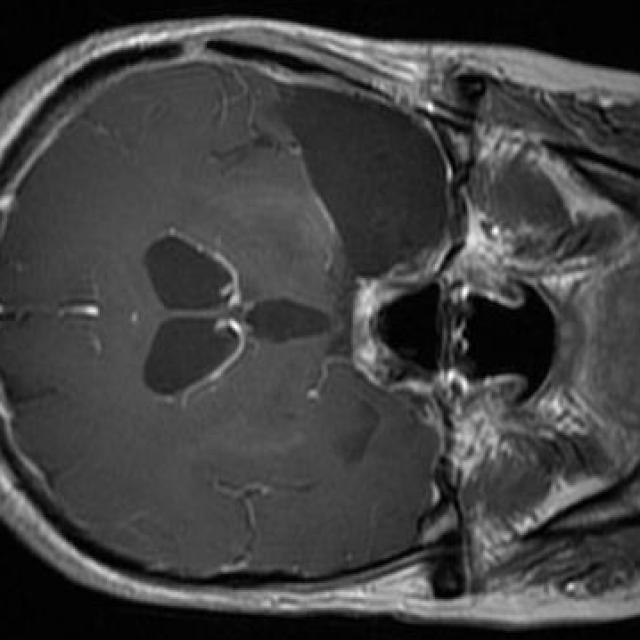glioma: (282, 89, 446, 278)
